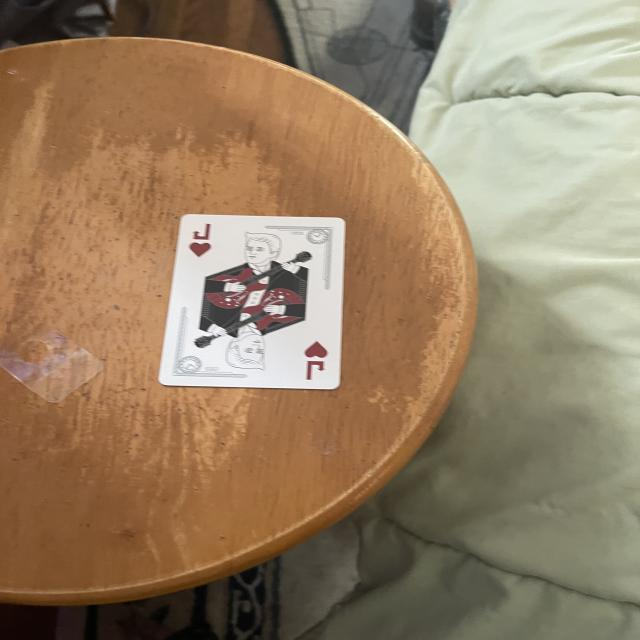Jack of hearts: (160, 214, 346, 390)
